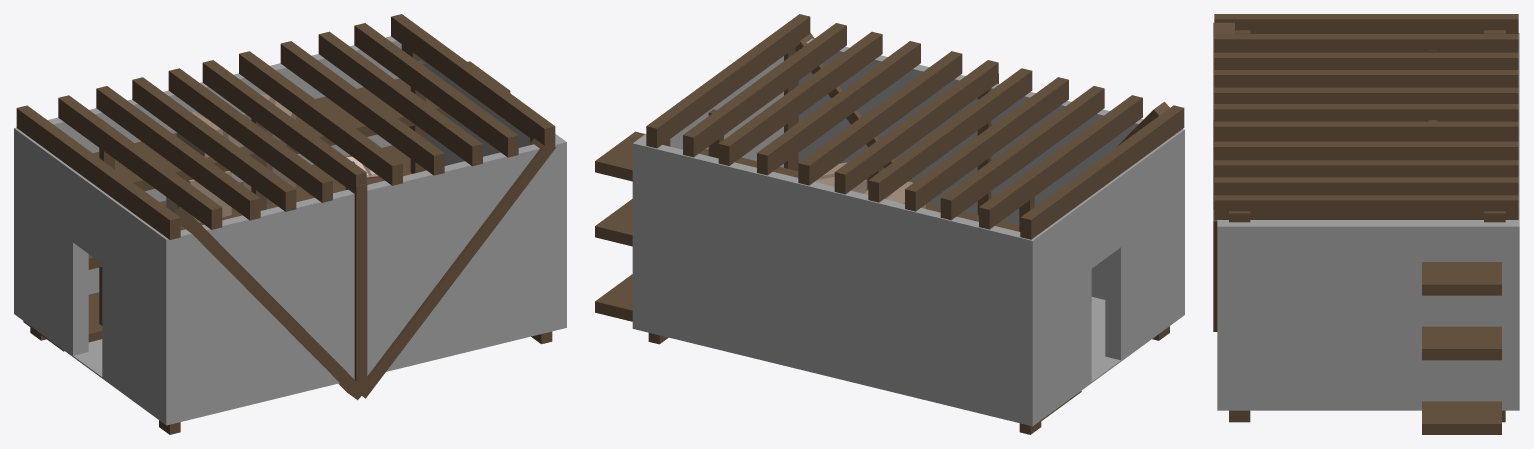
The model's file is smallerBasement.fbx.
3 views of the same model, side by side, from view 1: azimuth 30°, elevation 25°; view 2: azimuth 150°, elevation 25°; view 3: azimuth 270°, elevation 25° (orthographic).
Parts seen in each view (by area): view 1: pCube95, pCube114, pCube111, pCube112, pCube115, pCube113, pCube107, pCube108, pCube109, pCube106, pCube110, pCube100 (+7 smaller); view 2: pCube95, pCube106, pCube112, pCube108, pCube111, pCube114, pCube107, pCube113, pCube109, pCube115, pCube110, pCube100 (+3 smaller); view 3: pCube95, pCube110, pCube106, pCube107, pCube109, pCube113, pCube112, pCube108, pCube114, pCube115, pCube100, pCube111 (+7 smaller).
Boxes of the visible parts, x1,y1,x2,y2 form: pCube95: (14, 36, 566, 425); pCube114: (96, 86, 260, 220); pCube111: (168, 68, 332, 202); pCube112: (16, 105, 180, 239); pCube115: (132, 77, 296, 211); pCube113: (58, 95, 222, 229); pCube107: (280, 41, 444, 175); pCube108: (318, 31, 482, 166); pCube109: (354, 23, 518, 157); pCube106: (239, 51, 402, 185); pCube110: (391, 14, 555, 146); pCube100: (202, 60, 366, 186); pCube95: (632, 38, 1184, 426); pCube106: (798, 51, 962, 185); pCube112: (1020, 105, 1184, 239); pCube108: (718, 31, 882, 165); pCube111: (868, 68, 1032, 202); pCube114: (940, 86, 1104, 220); pCube107: (757, 41, 920, 175); pCube113: (979, 95, 1142, 229); pCube109: (683, 23, 846, 157); pCube115: (905, 77, 1068, 211); pCube110: (646, 14, 810, 148); pCube100: (834, 60, 998, 194); pCube95: (1217, 33, 1519, 410); pCube110: (1214, 195, 1518, 219); pCube106: (1214, 121, 1518, 141); pCube107: (1214, 141, 1518, 160); pCube109: (1214, 177, 1518, 195); pCube113: (1214, 34, 1518, 52); pCube112: (1214, 14, 1518, 33); pCube108: (1214, 160, 1518, 177); pCube114: (1214, 52, 1518, 69); pCube115: (1214, 70, 1518, 87); pCube100: (1214, 104, 1518, 121); pCube111: (1214, 87, 1518, 103).
Size of the model in its own units: 41.48 by 20.1 by 24.8.
Materials: 13 (6 with a texture image).
